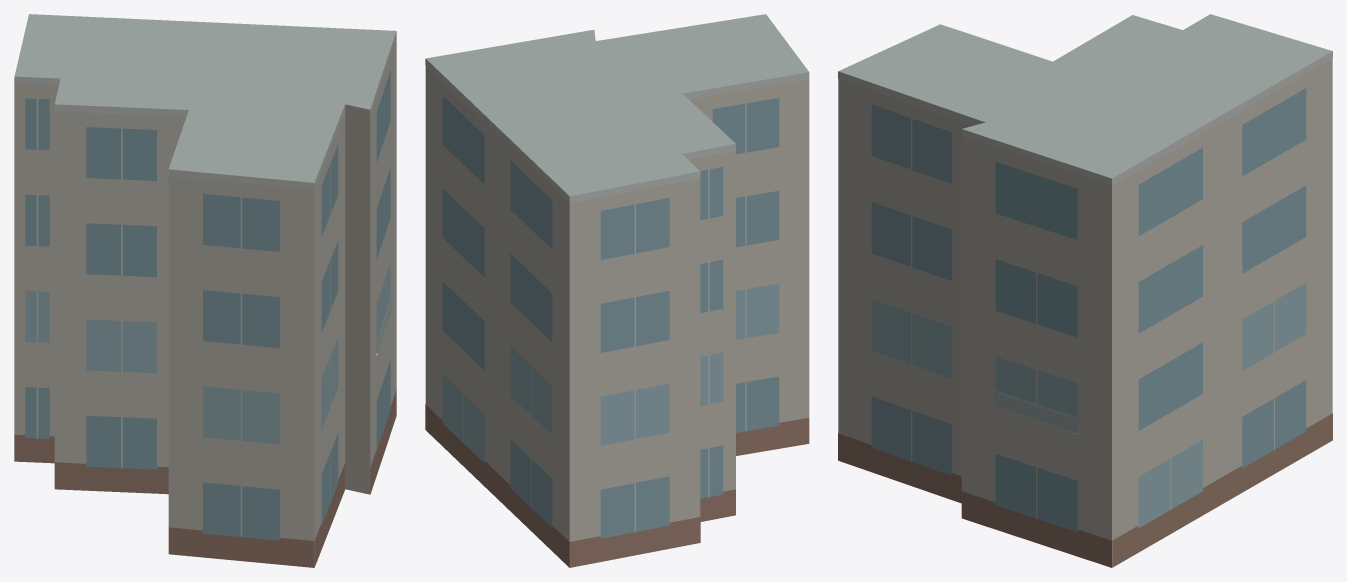
The model's file is survey-upis-33035932.glb.
3 views of the same model, side by side, from view 1: azimuth 30°, elevation 25°; view 2: azimuth 150°, elevation 25°; view 3: azimuth 270°, elevation 25° (orthographic). The views are drawn at different scales.
Visible parts, largest first — view 1: survey-upis-33035932.tmp; view 2: survey-upis-33035932.tmp; view 3: survey-upis-33035932.tmp.
Part boxes in pixels (<box>): survey-upis-33035932.tmp: <box>14,14,396,567</box>; survey-upis-33035932.tmp: <box>425,14,809,567</box>; survey-upis-33035932.tmp: <box>838,14,1332,567</box>.
Bounding box in the file's own units: 11.86 × 13.07 × 15.05.
